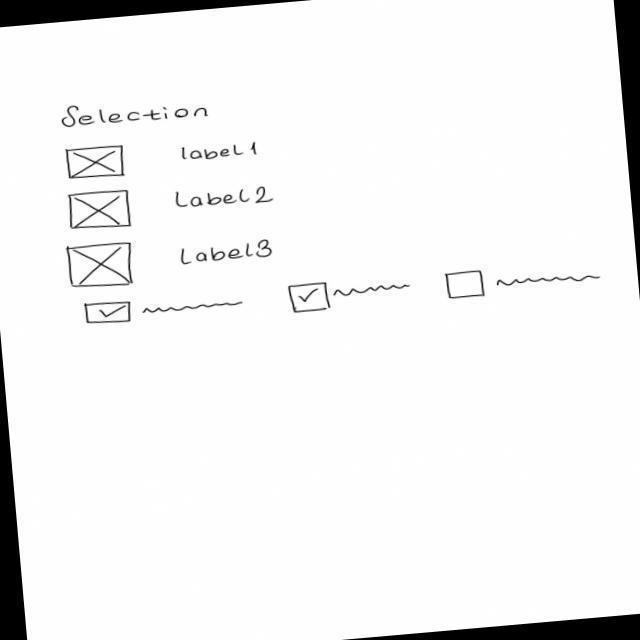checkbox: (443, 259, 606, 303), (84, 290, 248, 328), (287, 273, 416, 317)
image: (65, 240, 138, 292), (66, 187, 136, 234), (64, 143, 127, 183)
label: (60, 93, 213, 133), (174, 181, 280, 214), (179, 237, 277, 268), (178, 139, 262, 164)
